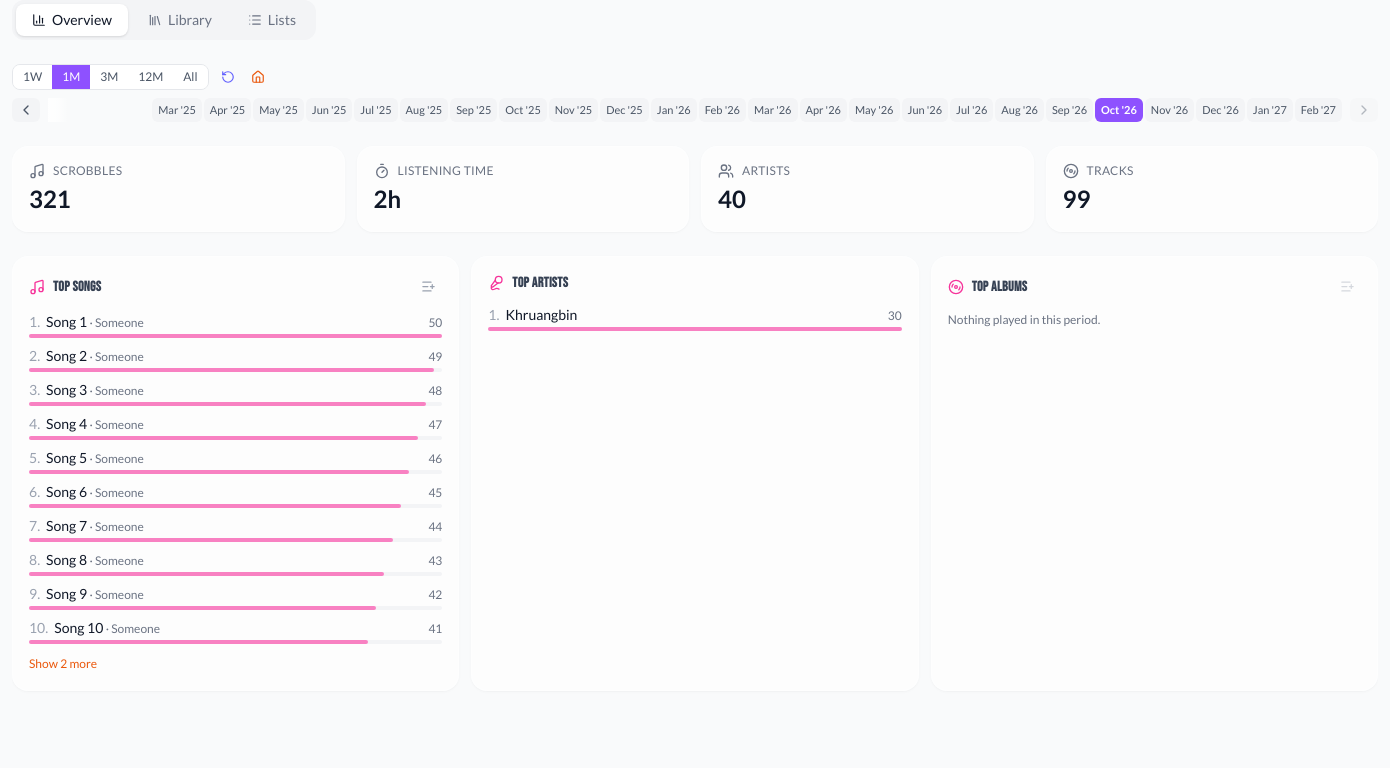
it: MusicTab › subtabs › opens on Overview with the period selector, and the other subtabs have none
Expected: the text "321" is shown, x1=29 y1=184 x2=71 y2=213
Expected: the button "All" is shown, x1=173 y1=65 x2=208 y2=89
Click the button "Library": (180, 20) x1=132 y1=4 x2=228 y2=36
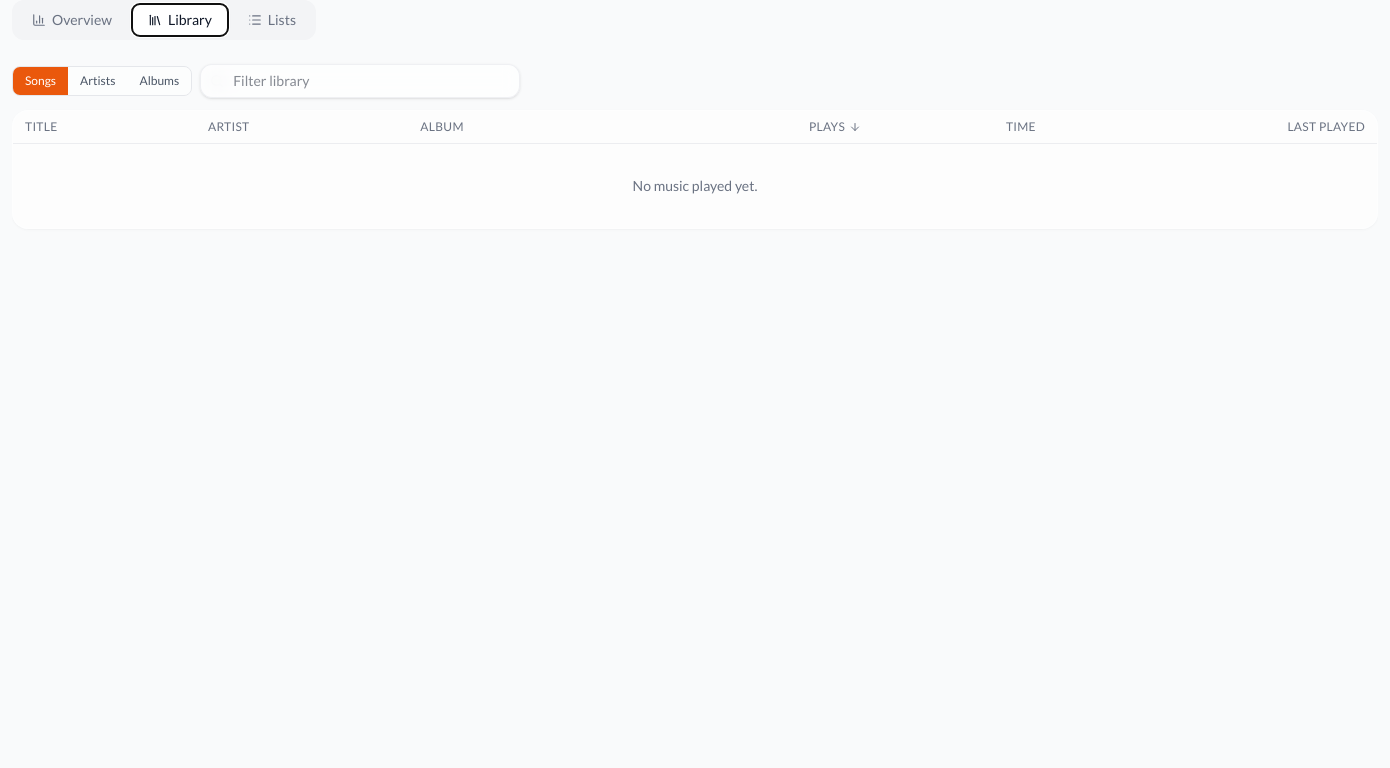
Expected: the field labelled "Filter library" is shown, x1=200 y1=64 x2=520 y2=98
Expected: the button "All" is gone
Expected: the text "Scrobbles" is gone
Click the button "Lists": (272, 20) x1=232 y1=4 x2=312 y2=36
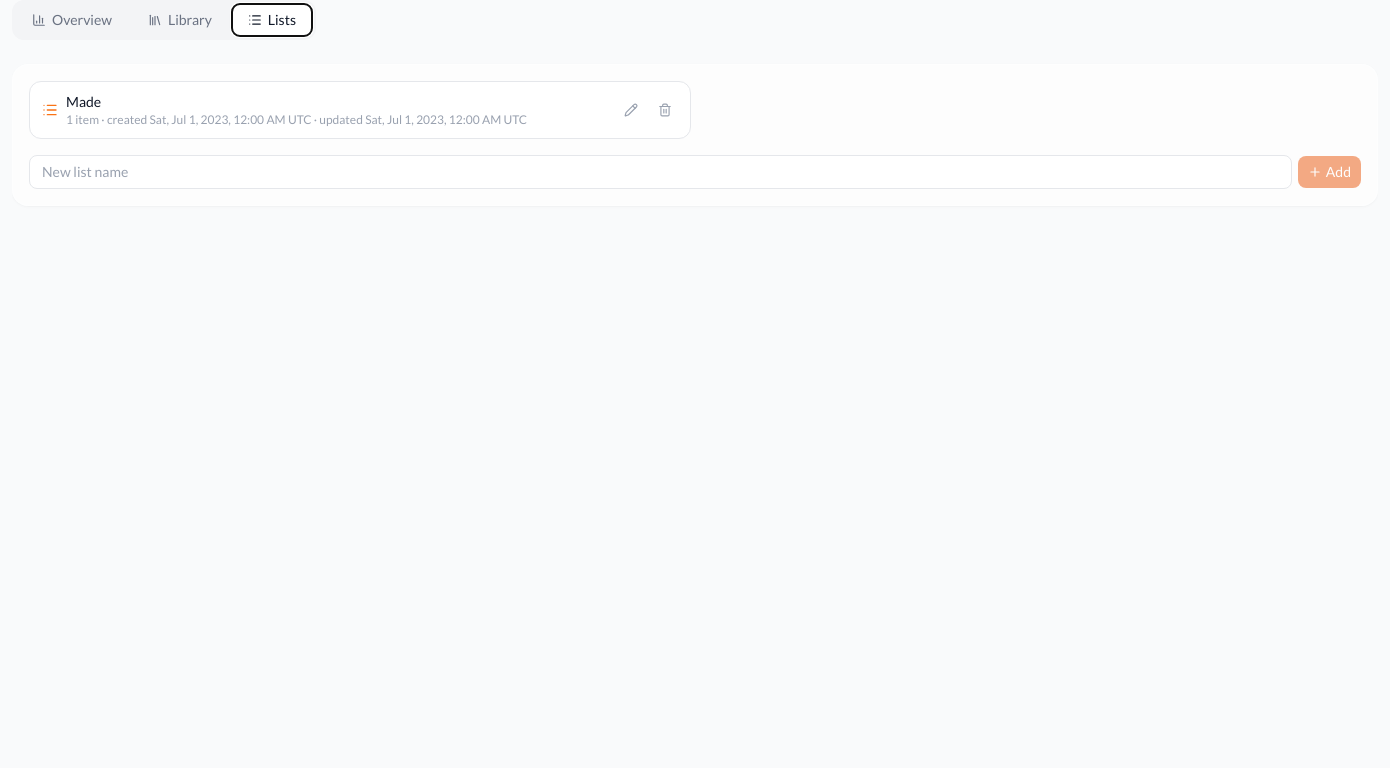
Expected: the field labelled "Filter library" is not shown
Expected: the element named "Music lists" is shown, x1=12 y1=64 x2=1378 y2=206
